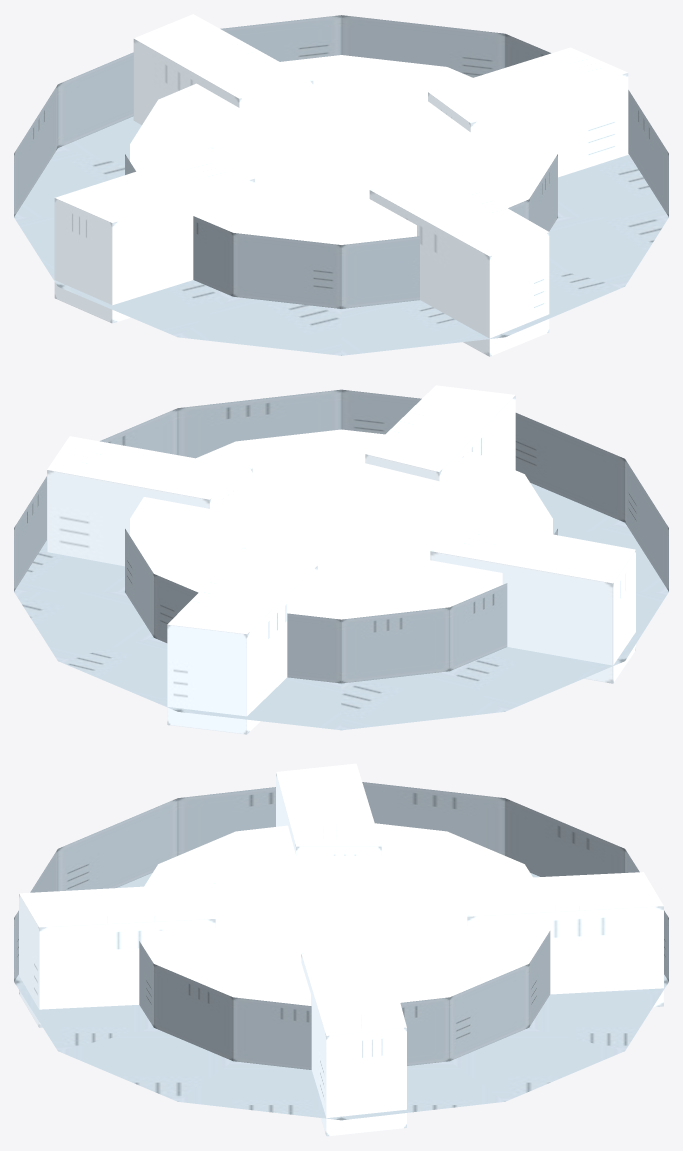
Rendered from ricochet.glb.
The picture shows the model from 3 angles, top to bottom: view 1: azimuth 30°, elevation 25°; view 2: azimuth 150°, elevation 25°; view 3: azimuth 270°, elevation 25°; orthographic projection.
Parts seen in each view (by area): view 1: ricochet; view 2: ricochet; view 3: ricochet.
Boxes of the visible parts, x1=… form: ricochet: x1=14, y1=14, x2=668, y2=356; ricochet: x1=14, y1=385, x2=668, y2=734; ricochet: x1=14, y1=763, x2=668, y2=1136.
Size of the model in its own units: 0.13 by 0.022 by 0.13.
Materials: 3 (3 with a texture image).
